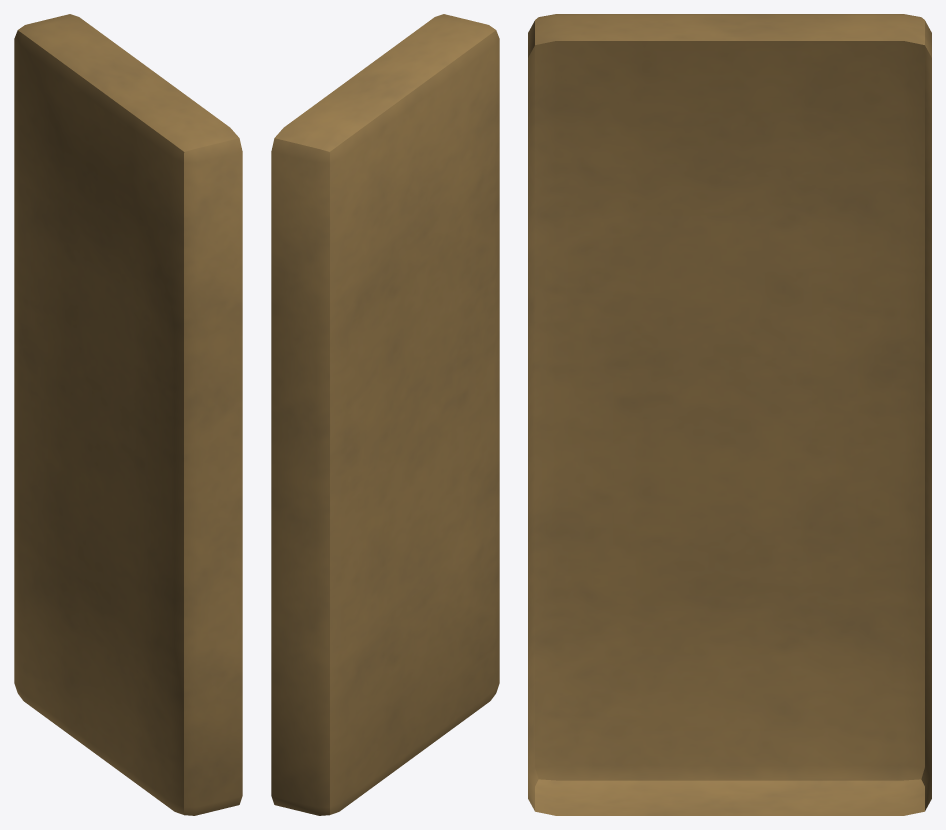
Rendered from PlatformTall Width EXT End.fbx.
3 views of the same model, side by side, from view 1: azimuth 30°, elevation 25°; view 2: azimuth 150°, elevation 25°; view 3: azimuth 270°, elevation 25° (orthographic). The views are drawn at different scales.
Parts seen in each view (by area): view 1: PlatformTall Width EXT End; view 2: PlatformTall Width EXT End; view 3: PlatformTall Width EXT End.
Part boxes in pixels (bbox=[...]): PlatformTall Width EXT End: bbox=[14, 14, 242, 815]; PlatformTall Width EXT End: bbox=[271, 14, 499, 815]; PlatformTall Width EXT End: bbox=[528, 14, 931, 815].
Bounding box in the file's own units: 7.23 × 37.19 × 78.75.
